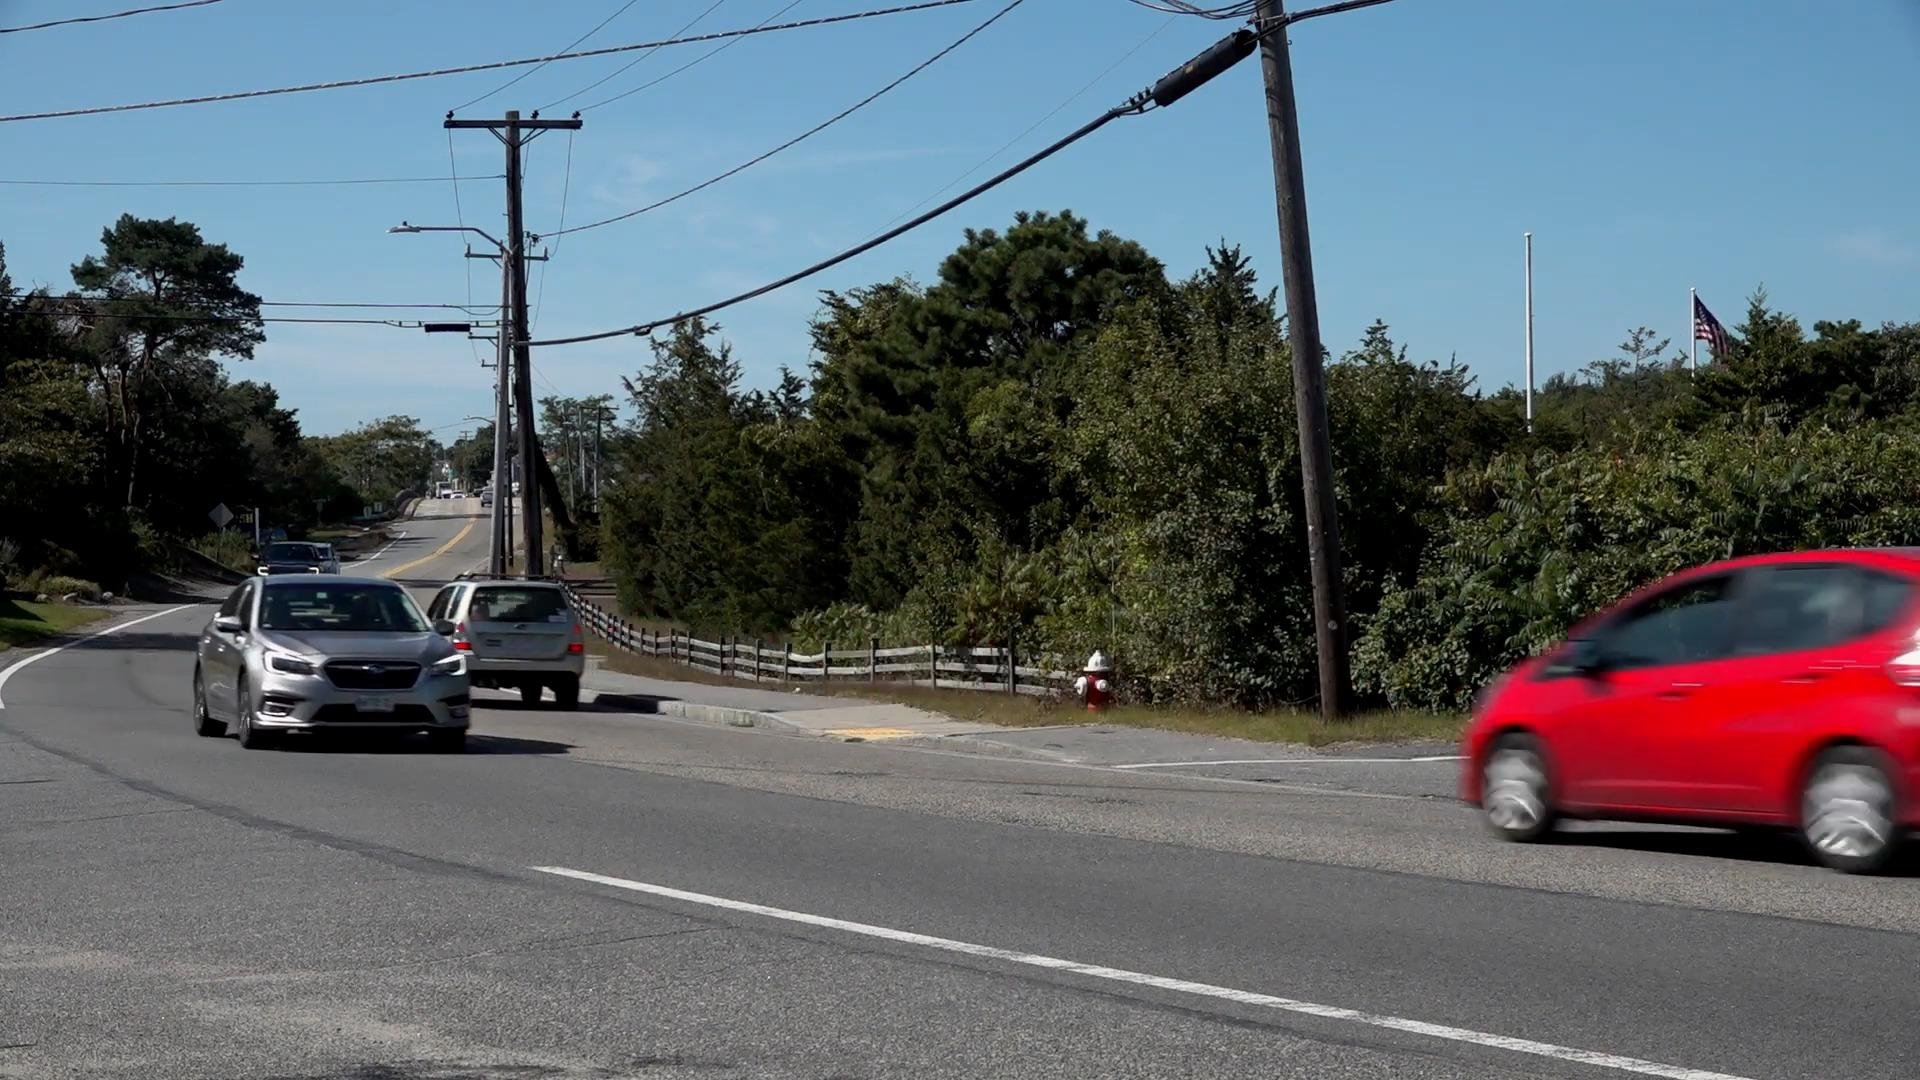sedans: (1460, 546, 1916, 870), (195, 572, 473, 753)
suv: (433, 583, 583, 705)
